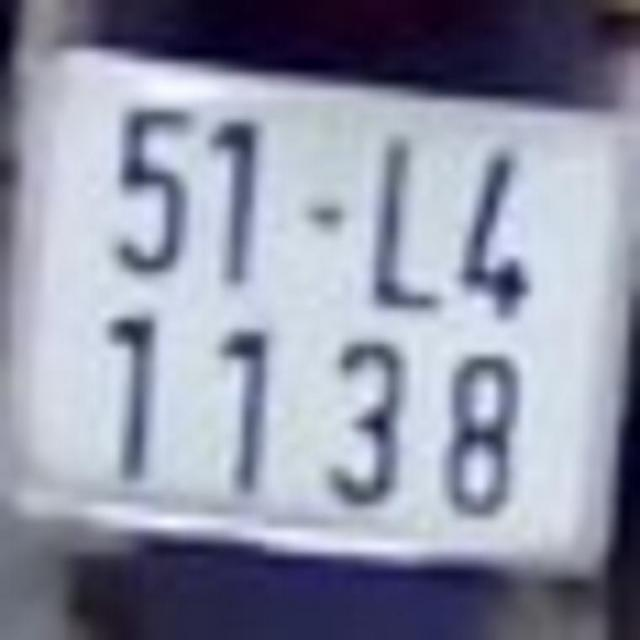1: (201, 106, 267, 289), (213, 314, 275, 497), (95, 307, 148, 480)
3: (322, 332, 402, 510)
4: (452, 133, 542, 324)
5: (114, 95, 193, 276)
8: (441, 344, 522, 518)
L: (361, 121, 443, 322)
